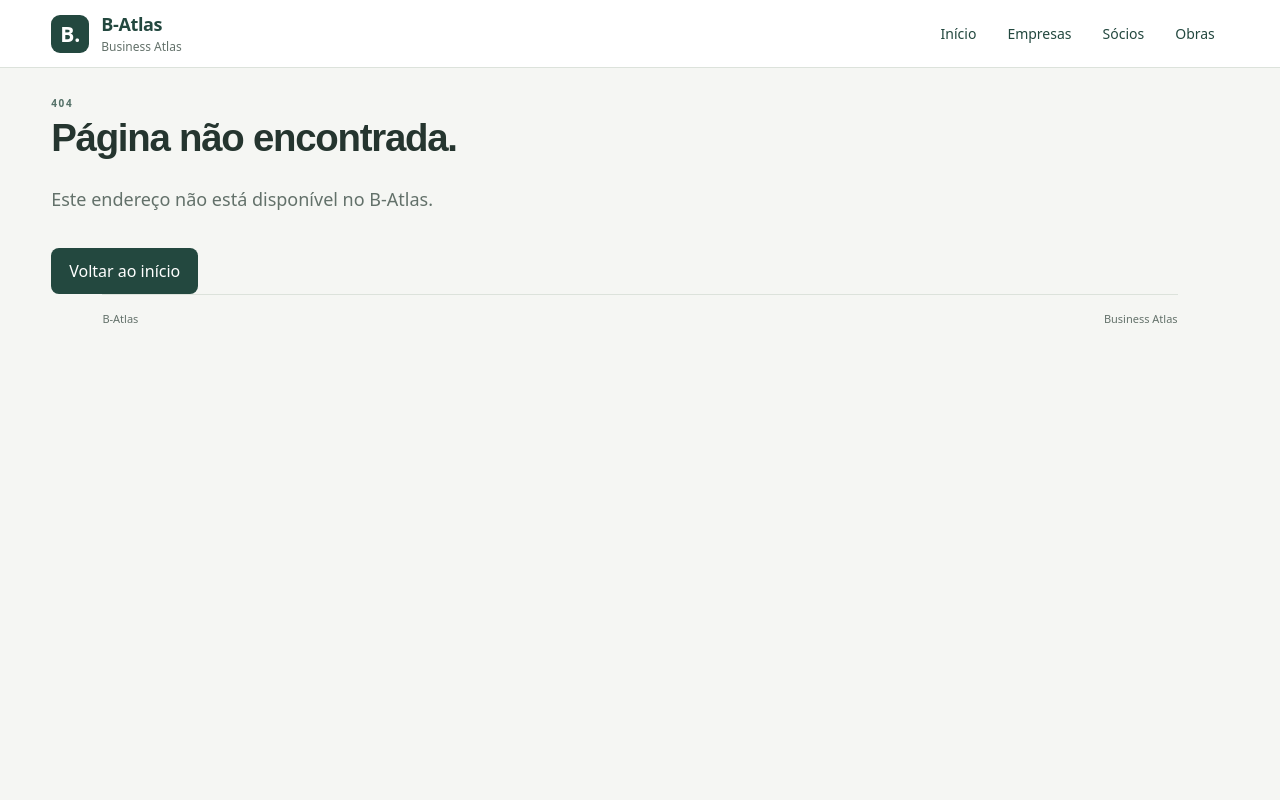
Test case: navegação › exibe 404 em acesso direto e permite retornar ao início
This screenshot has width=1280, height=800.
Expected: the heading shows "Página não encontrada", top-left (51, 116), bottom-right (457, 159)
Click the link "Voltar ao início" at {"x": 125, "y": 271}, box top-left (51, 248), bottom-right (198, 294)
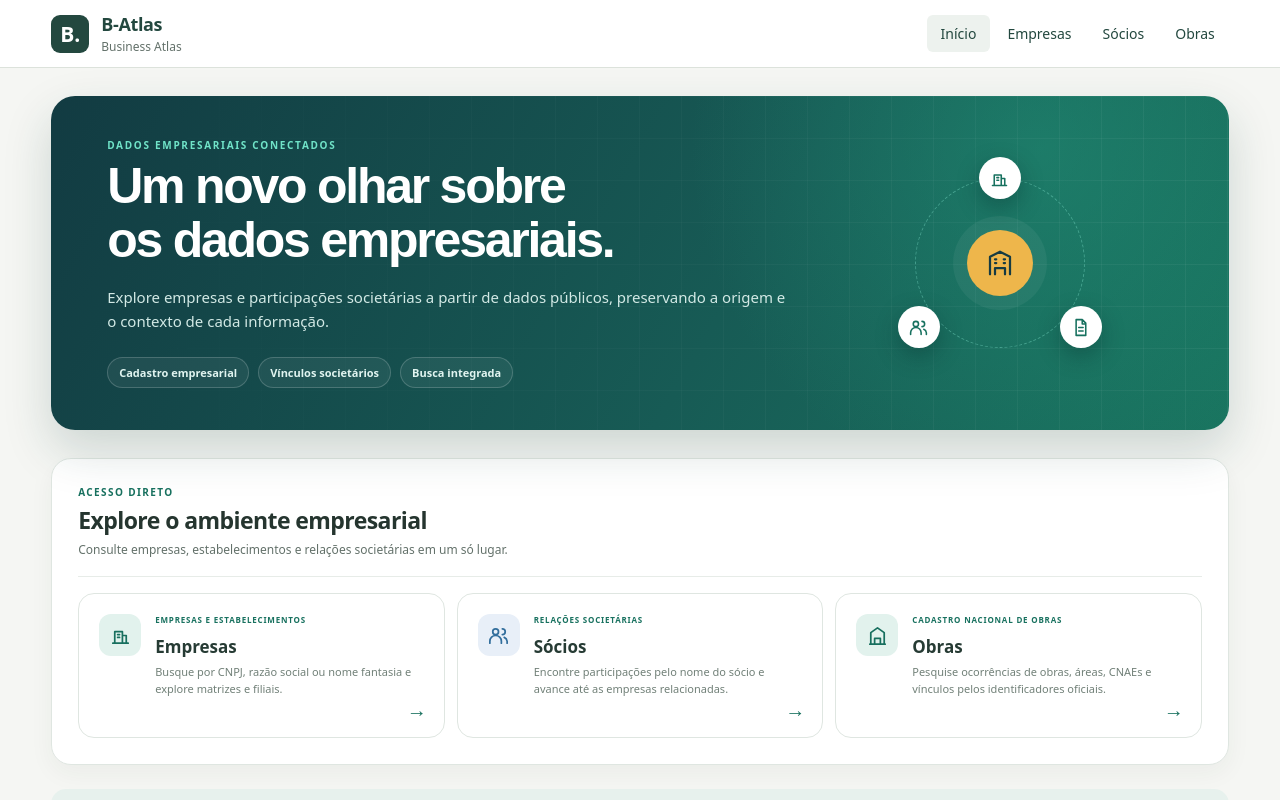
Result: the heading that starts with "Um novo olhar sobre" is shown at top-left (107, 158), bottom-right (564, 214)
